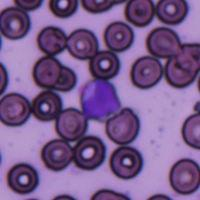M: (80, 79, 122, 121)
